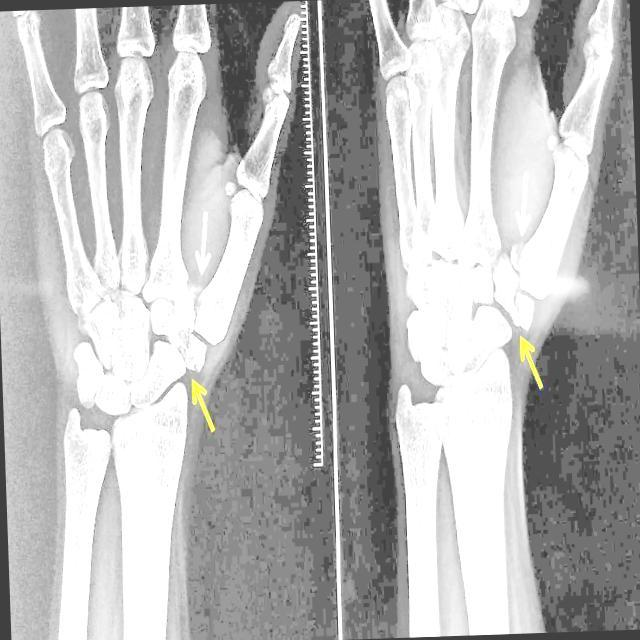Fracture Dislocation: (493, 297, 535, 340), (176, 343, 203, 375)
